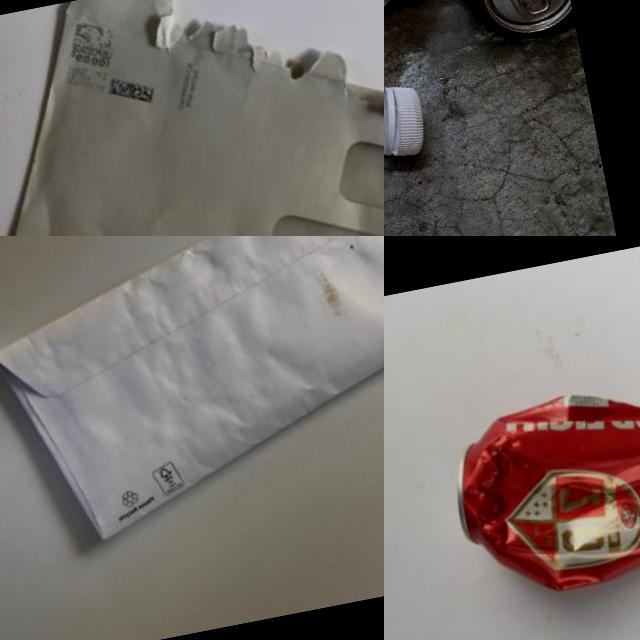aba de lata: (513, 0, 558, 22)
garrafa plástica: (384, 37, 451, 236)
lata: (438, 365, 640, 609), (423, 0, 576, 46)
papel: (0, 236, 384, 555), (0, 0, 384, 236)
tampa plástica: (384, 78, 428, 161)
